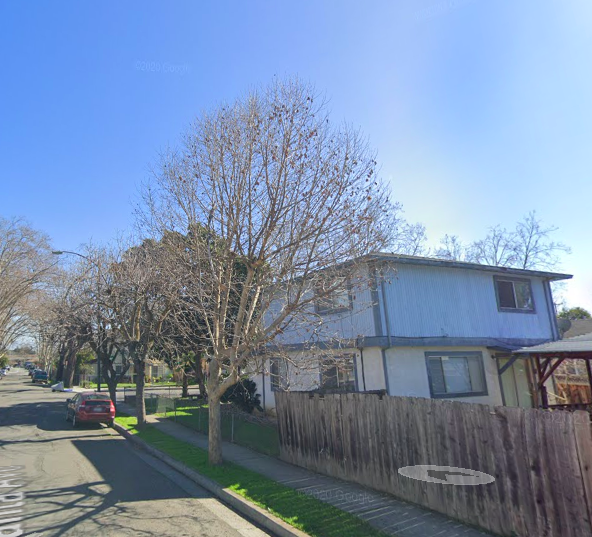tree: (128, 66, 423, 468)
